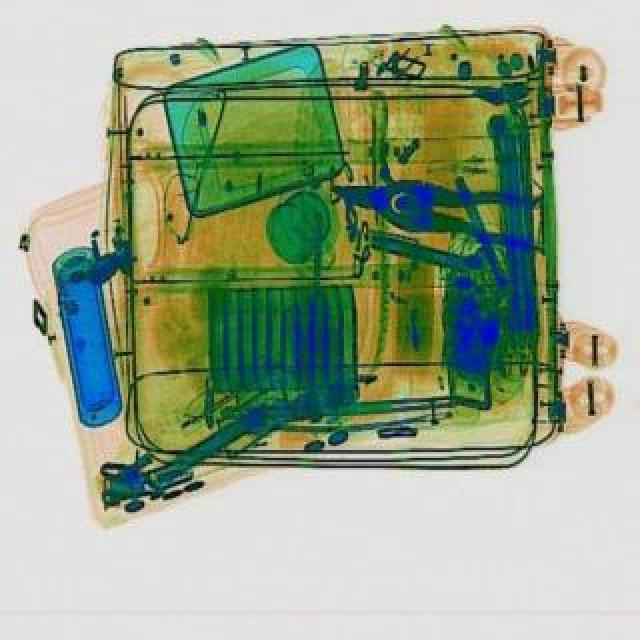scissors: (324, 170, 480, 244)
